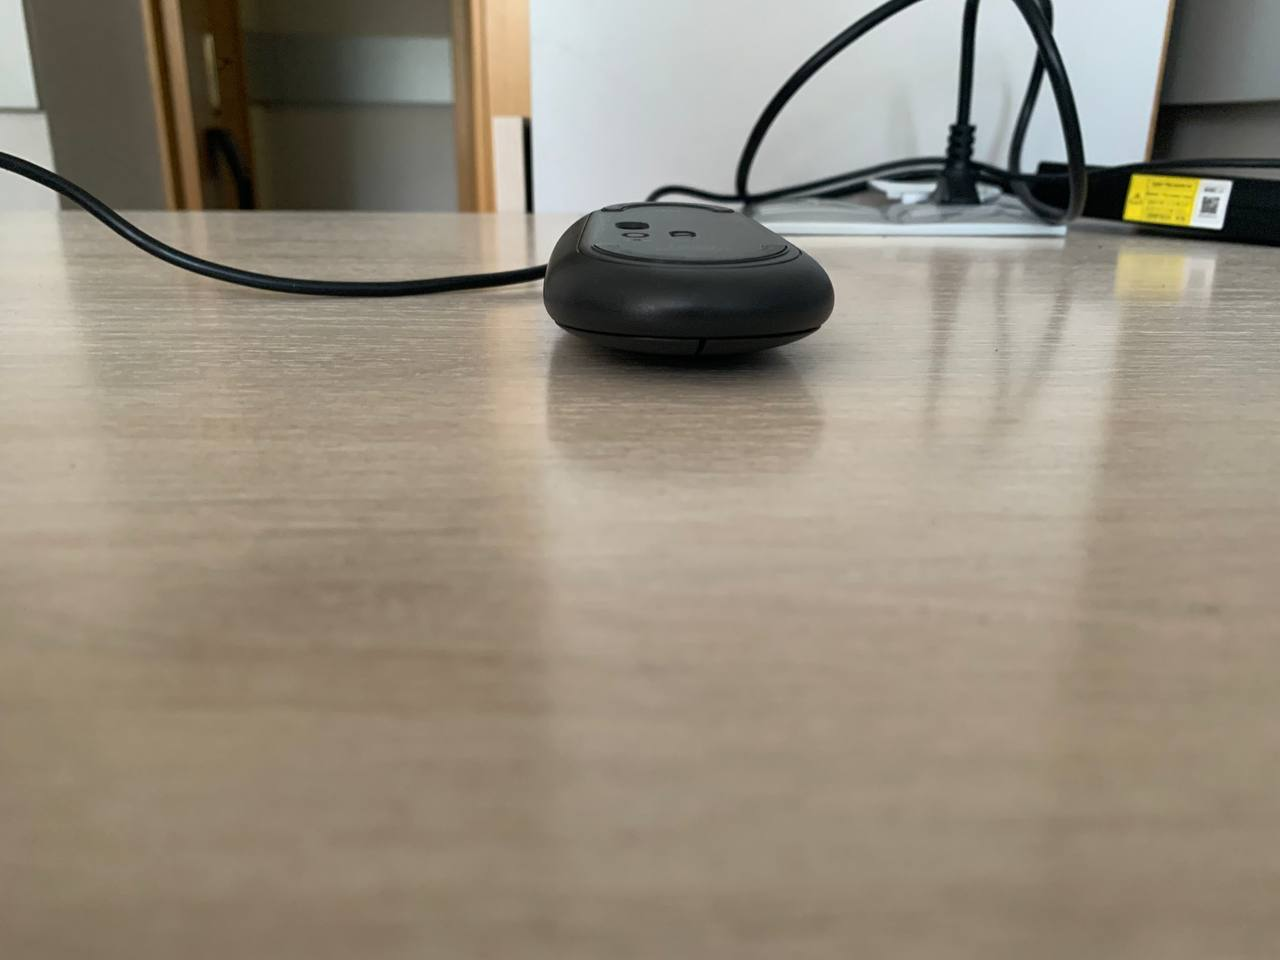mouse: (540, 203, 835, 357)
